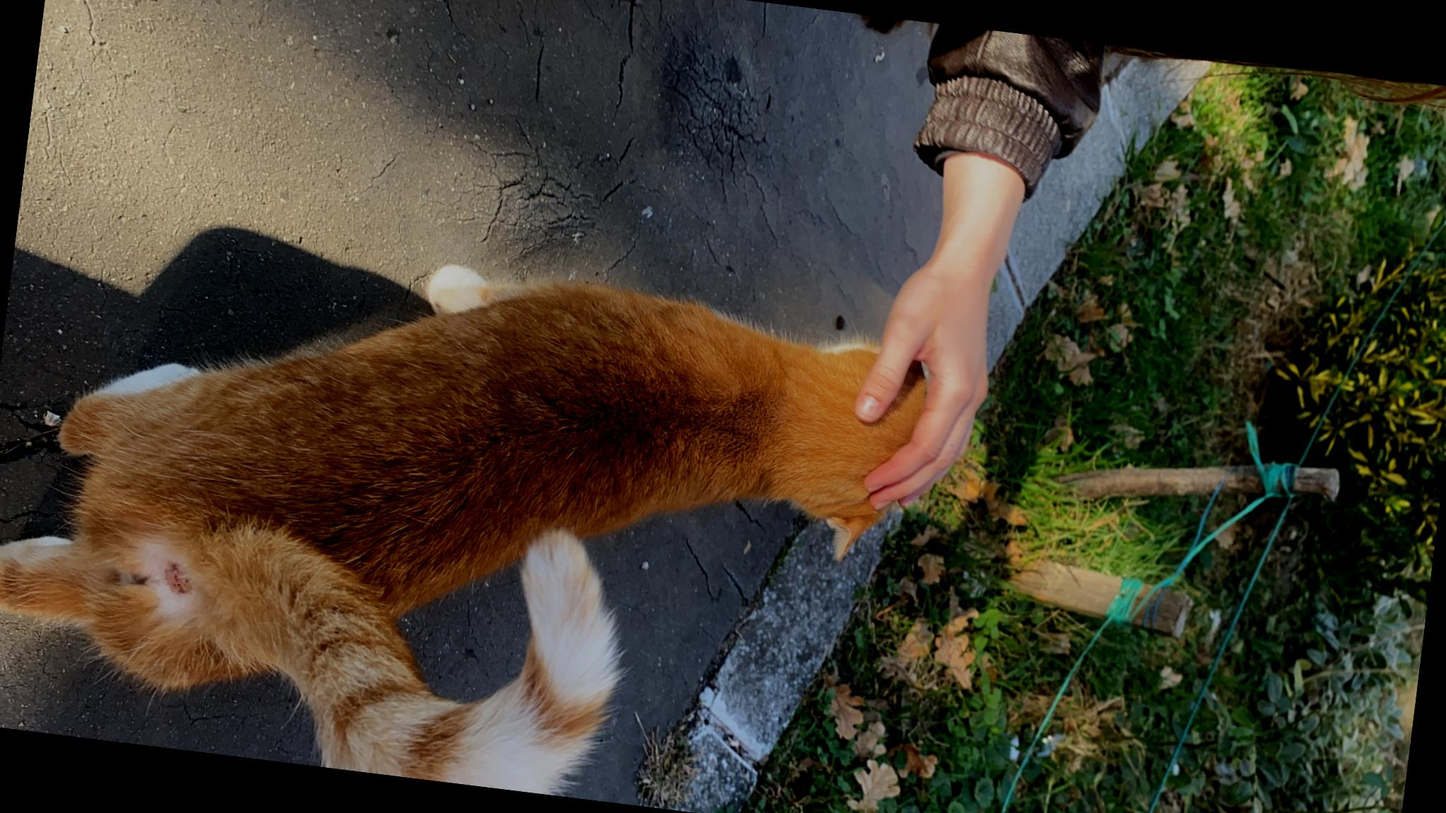macka: (879, 548, 1425, 813)
